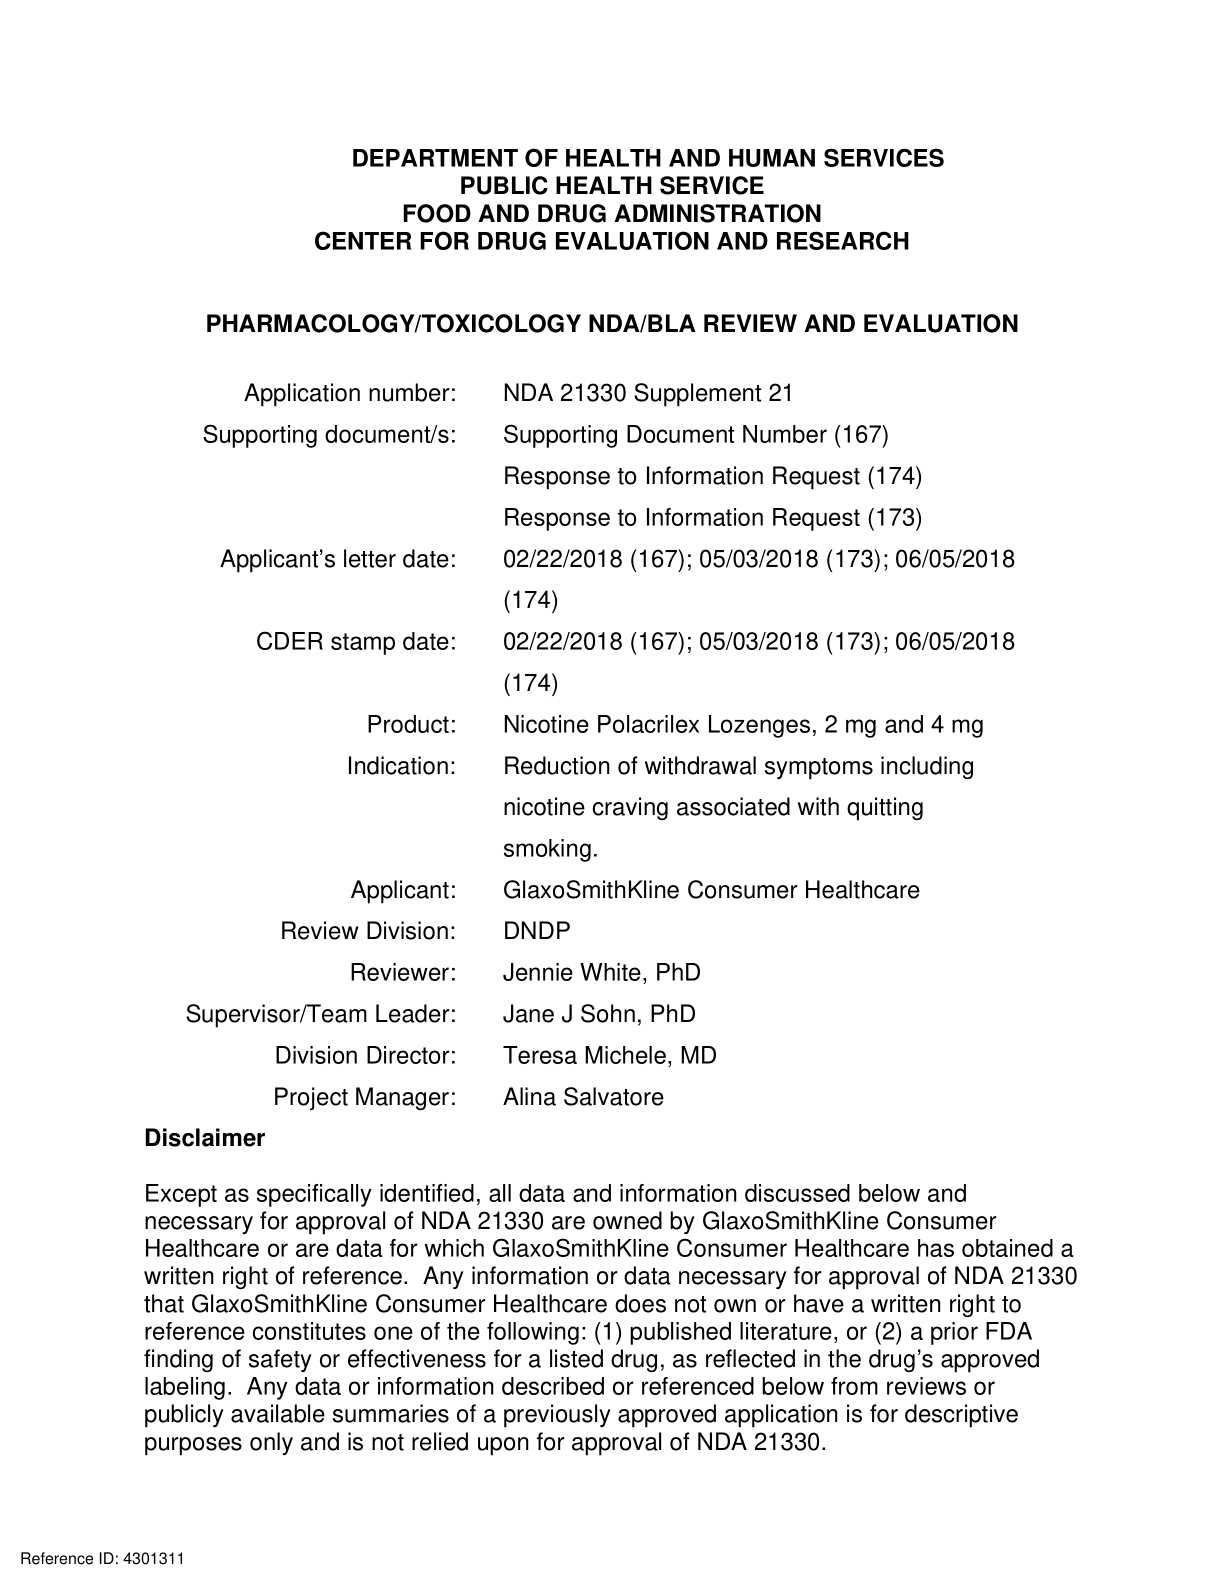nolines: (186, 381, 1020, 1110)
